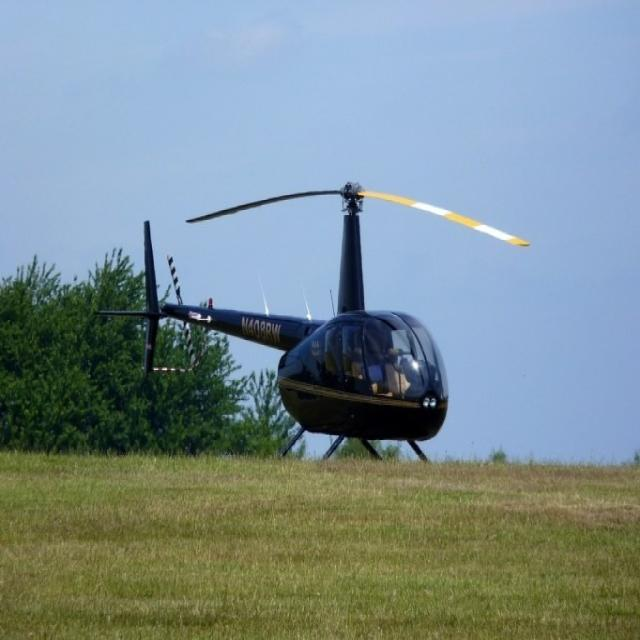CIV_HELO: (96, 179, 450, 470)
